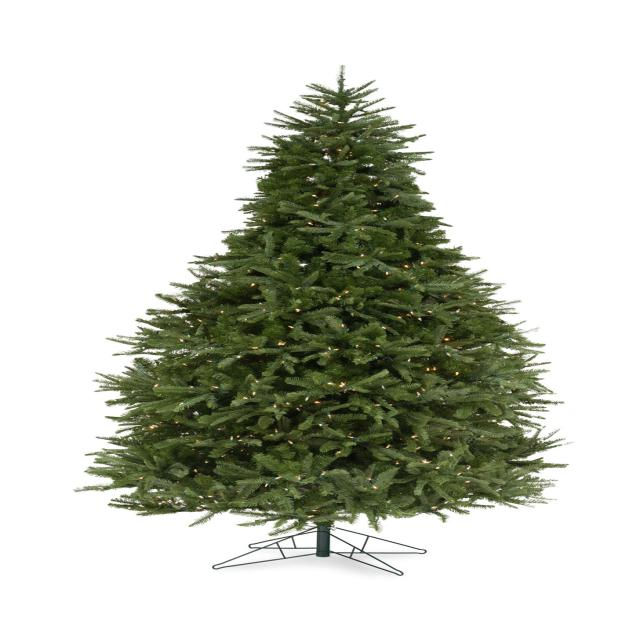Christmas-tree: (55, 61, 580, 522)
